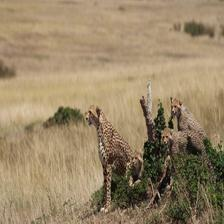Cheetah: (82, 100, 141, 214), (160, 127, 219, 181), (168, 97, 217, 156), (128, 150, 163, 206)
